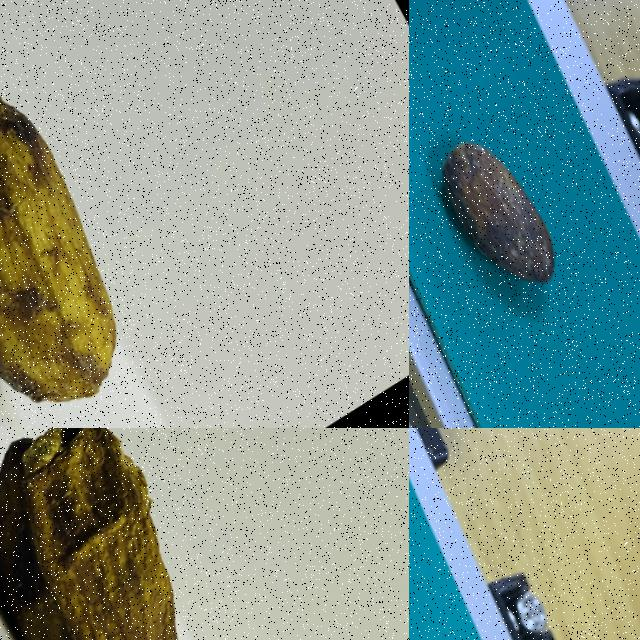Agglomerated_cocoabeans: (0, 428, 328, 639)
Fine_cocoabeans: (0, 0, 246, 427), (409, 48, 639, 420), (409, 428, 511, 639)
